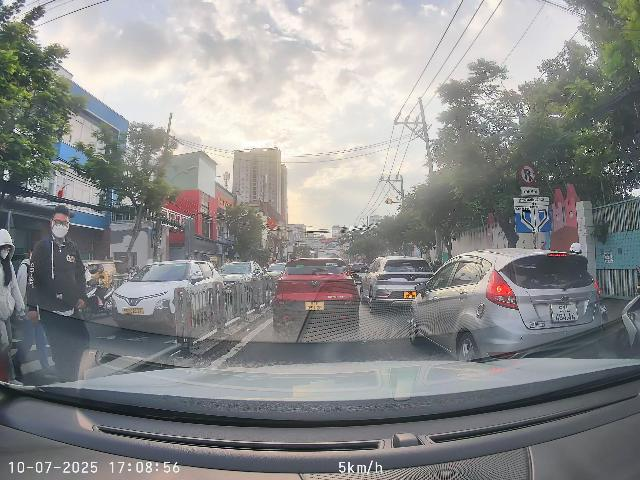124b-cam-oto-quay-dau-xe: (519, 163, 536, 186)
